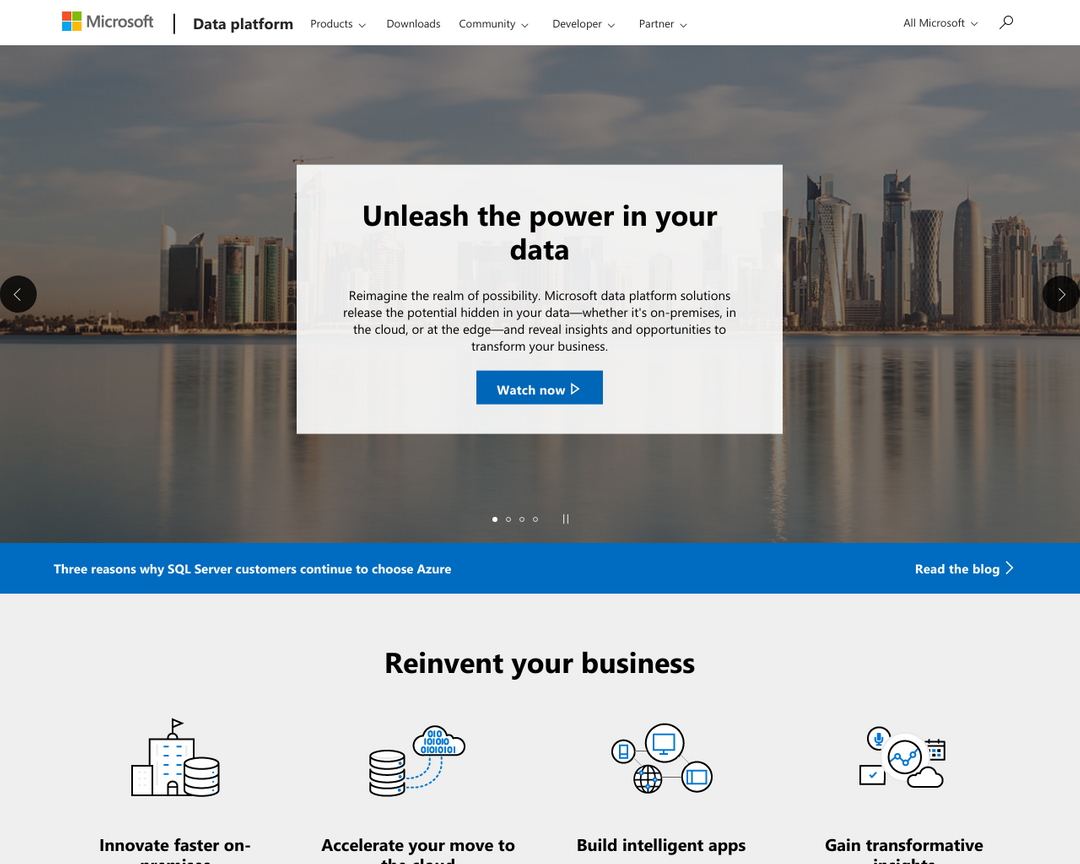Microsoft: (60, 6, 84, 33)
